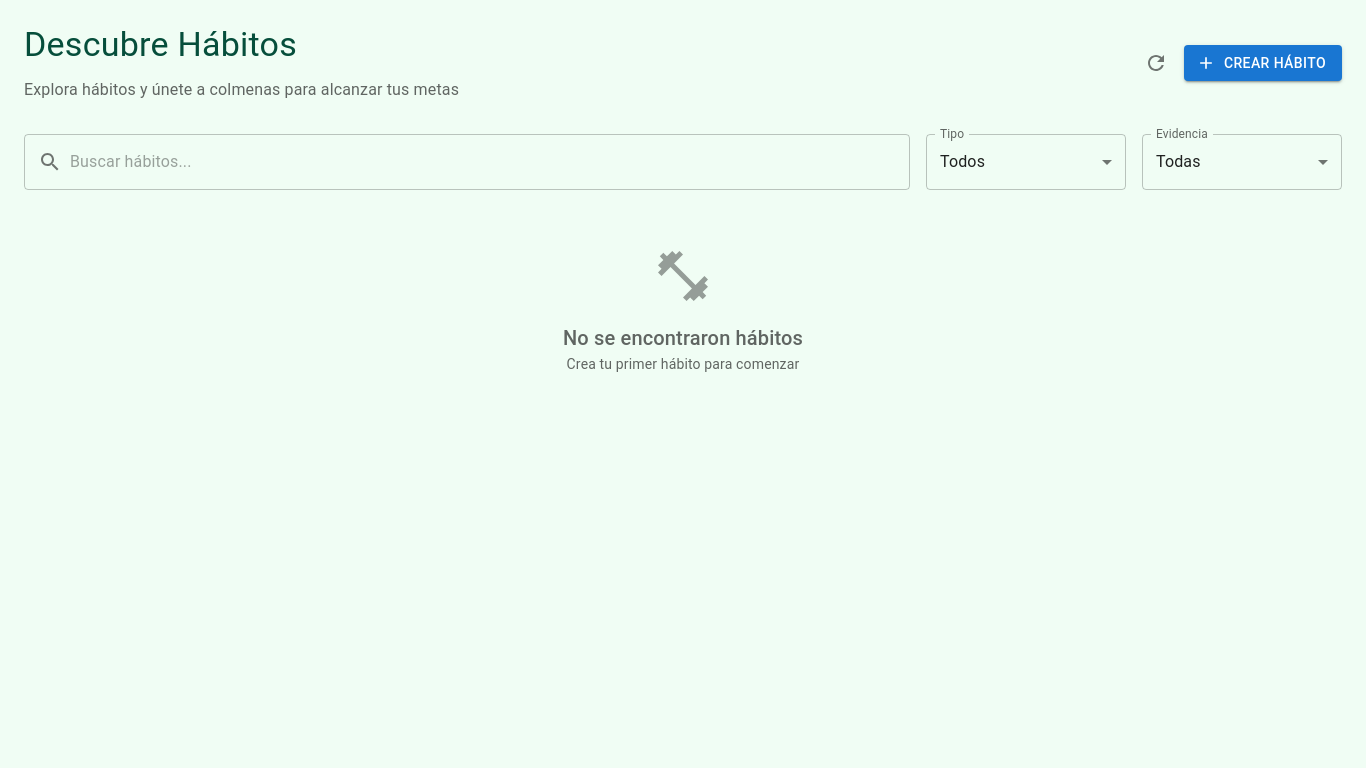
it: HabitsPage › Create Habit › should open create modal when create button is clicked
Click the button "Crear Hábito" at (1263, 63), box [1184, 45, 1342, 81]
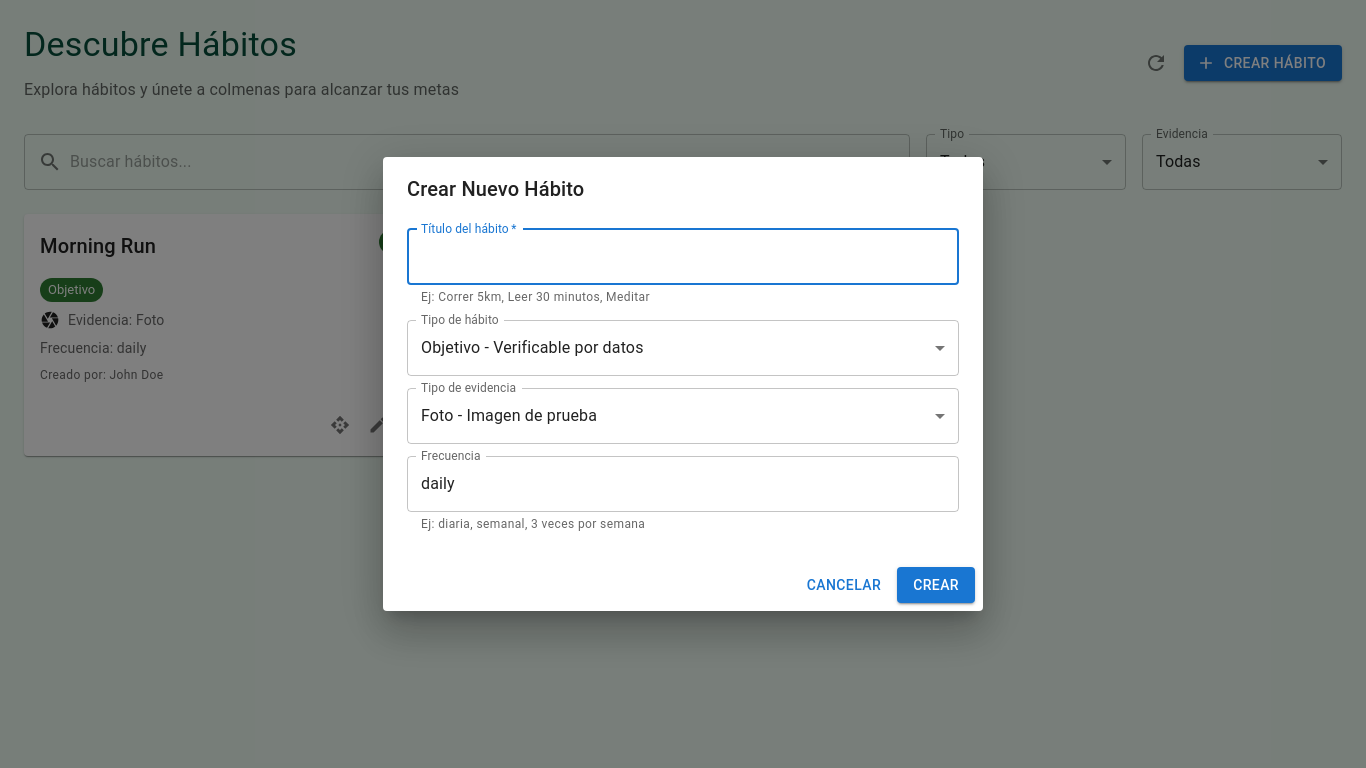
Check: the heading "Crear Nuevo Hábito" is shown, box [407, 177, 584, 201]
